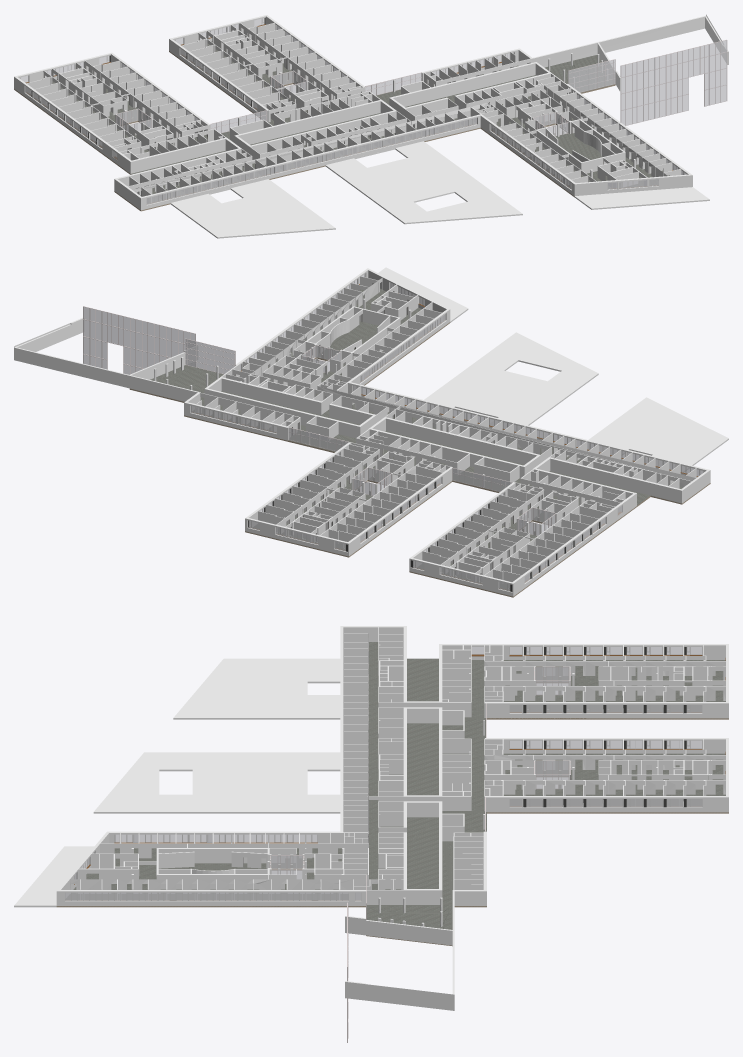
The model's file is Ebene 01_26.09.218.fbx.
3 views of the same model, one above another, from view 1: azimuth 30°, elevation 25°; view 2: azimuth 150°, elevation 25°; view 3: azimuth 270°, elevation 25° (orthographic). The views are drawn at different scales.
Parts seen in each view (by area): view 1: Farbe, weiß, Glas Normalglas, Beton, rauh, Metall Aluminium, matt, Fensterrahmen, Naturstein Kalkstein, Metall, Fassade Edelstahl; view 2: Farbe, weiß, Glas Normalglas, Beton, rauh, Metall Aluminium, matt, Fensterrahmen, Naturstein Kalkstein, Metall, Fassade Edelstahl; view 3: Farbe, weiß, Beton, rauh, Glas Normalglas, Fensterrahmen, Naturstein Kalkstein, Metall Stahl, lackiert, Metall Aluminium, matt, Holz Nussbaum.
Part boxes in pixels (<box>): Farbe, weiß: <box>14,14,728,238</box>; Glas Normalglas: <box>19,18,726,204</box>; Beton, rauh: <box>53,41,669,202</box>; Metall Aluminium, matt: <box>116,39,727,136</box>; Fensterrahmen: <box>19,18,686,204</box>; Naturstein Kalkstein: <box>14,51,615,211</box>; Metall, Fassade Edelstahl: <box>44,27,669,195</box>; Farbe, weiß: <box>14,267,728,596</box>; Glas Normalglas: <box>83,274,703,590</box>; Beton, rauh: <box>150,288,682,589</box>; Metall Aluminium, matt: <box>83,306,555,535</box>; Fensterrahmen: <box>191,274,699,591</box>; Naturstein Kalkstein: <box>129,322,710,597</box>; Metall, Fassade Edelstahl: <box>200,283,679,574</box>; Farbe, weiß: <box>14,626,728,1010</box>; Beton, rauh: <box>65,642,725,929</box>; Glas Normalglas: <box>65,647,701,900</box>; Fensterrahmen: <box>65,647,702,901</box>; Naturstein Kalkstein: <box>56,682,728,946</box>; Metall Stahl, lackiert: <box>523,647,686,807</box>; Metall Aluminium, matt: <box>269,666,570,1042</box>; Holz Nussbaum: <box>74,654,725,884</box>.
Size of the model in its own units: 17743 by 14482 by 1710.
Materials: 11 (4 with a texture image).
